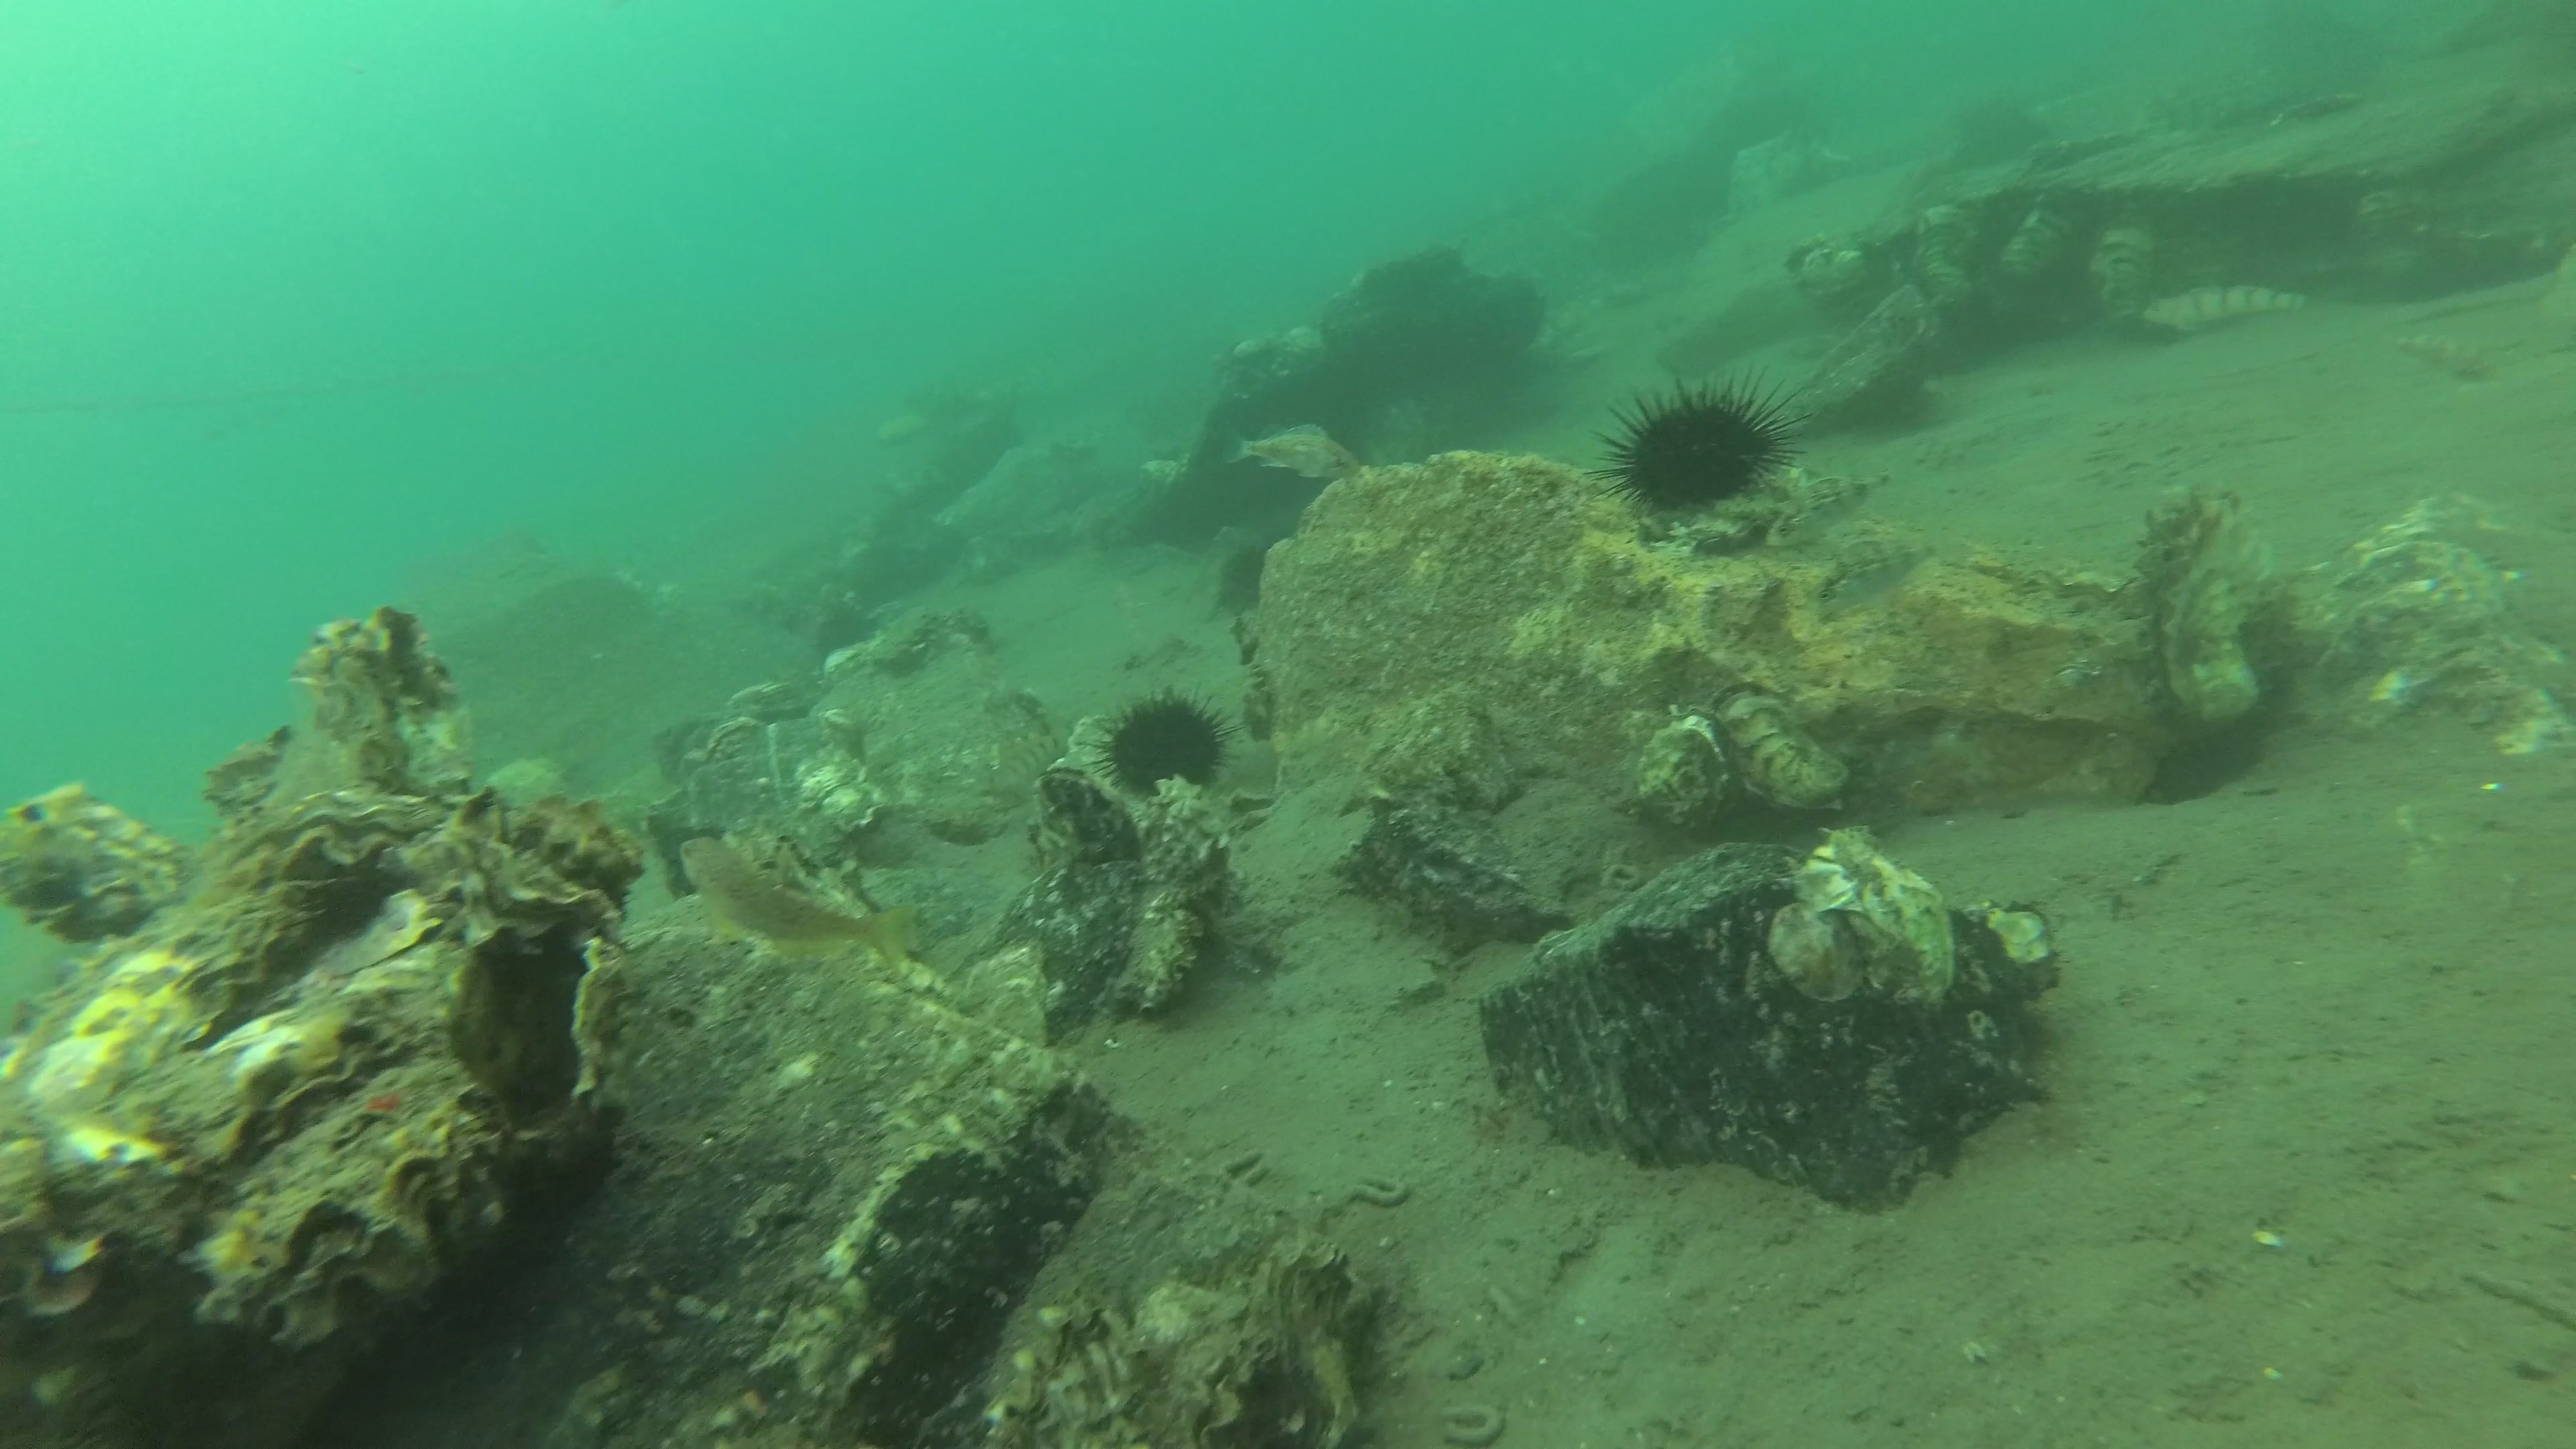echinus: (1582, 361, 1819, 517), (1079, 681, 1246, 800)
